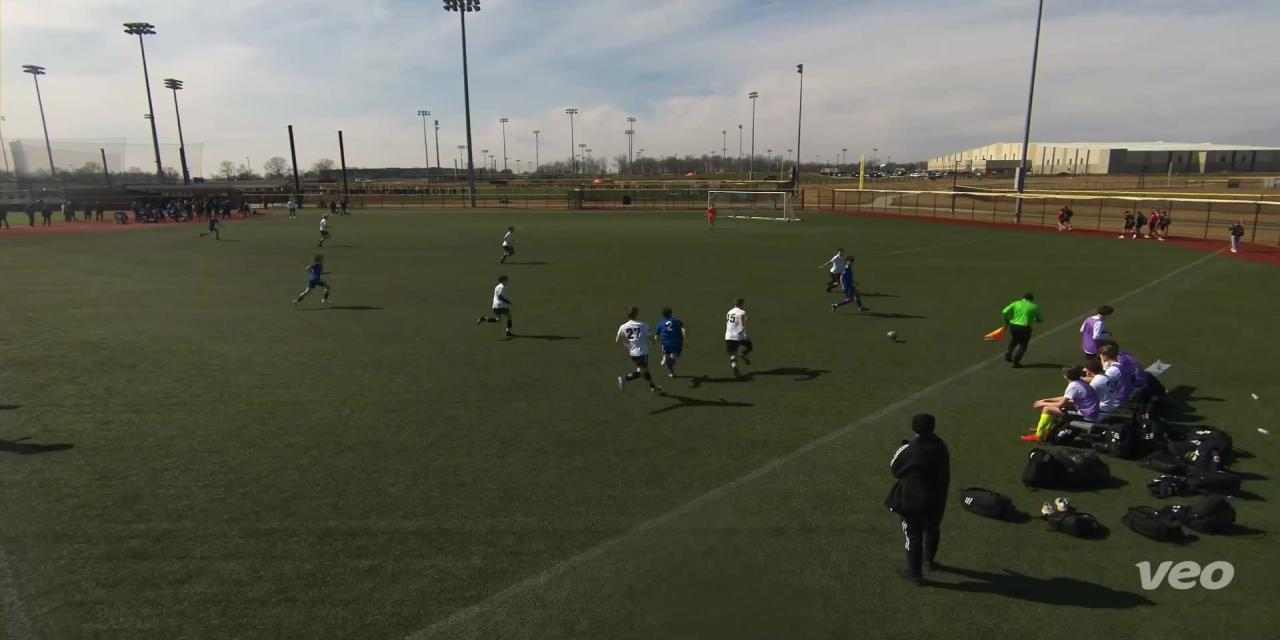goal: (698, 185, 816, 233)
sports ball: (881, 324, 902, 344)
